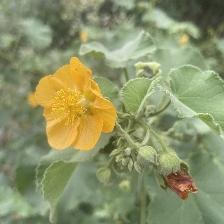indian mallow: (35, 55, 121, 157)
